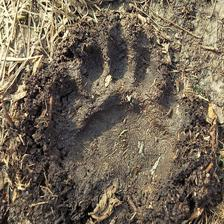bear: (40, 24, 185, 192)
